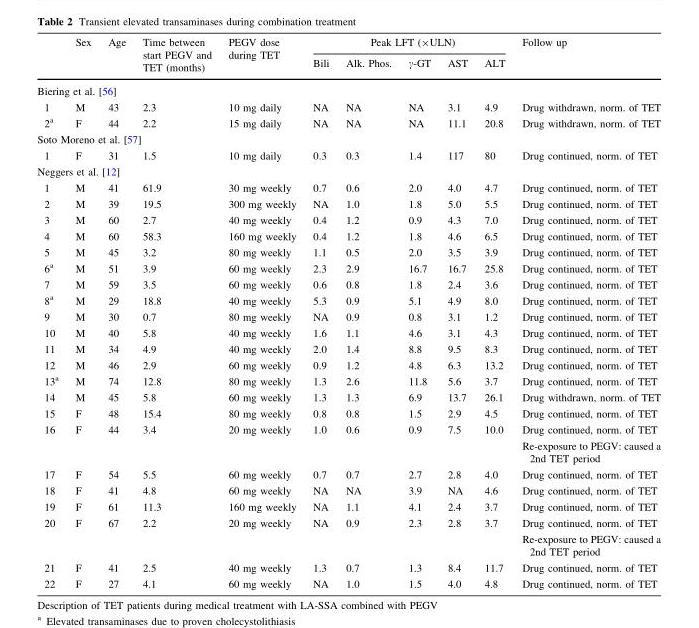table: (36, 37, 660, 589)
table column: (513, 37, 660, 589), (133, 37, 219, 589), (219, 37, 303, 589), (336, 37, 399, 589), (399, 37, 438, 589), (475, 37, 513, 589), (438, 37, 475, 589), (99, 37, 133, 589), (66, 37, 99, 589), (303, 37, 336, 589), (36, 37, 66, 589)
table column header: (36, 37, 660, 79)
table projected row header: (36, 79, 660, 99), (36, 131, 660, 147), (36, 163, 660, 179)
table row: (36, 421, 660, 466), (36, 515, 660, 559), (36, 52, 660, 79), (36, 79, 660, 99), (36, 114, 660, 131), (36, 179, 660, 196), (36, 259, 660, 276), (36, 291, 660, 308), (36, 308, 660, 325), (36, 372, 660, 389), (36, 498, 660, 515), (36, 131, 660, 147), (36, 147, 660, 163), (36, 163, 660, 179), (36, 196, 660, 212), (36, 212, 660, 228), (36, 228, 660, 244), (36, 325, 660, 341), (36, 341, 660, 357), (36, 389, 660, 405), (36, 405, 660, 421), (36, 466, 660, 482), (36, 482, 660, 498), (36, 559, 660, 575), (36, 37, 660, 52), (36, 99, 660, 114), (36, 244, 660, 259), (36, 276, 660, 291), (36, 357, 660, 372), (36, 575, 660, 589)
table spanning cell: (513, 37, 660, 79), (133, 37, 219, 79), (219, 37, 303, 79), (303, 37, 513, 52), (99, 37, 133, 79), (66, 37, 99, 79)
